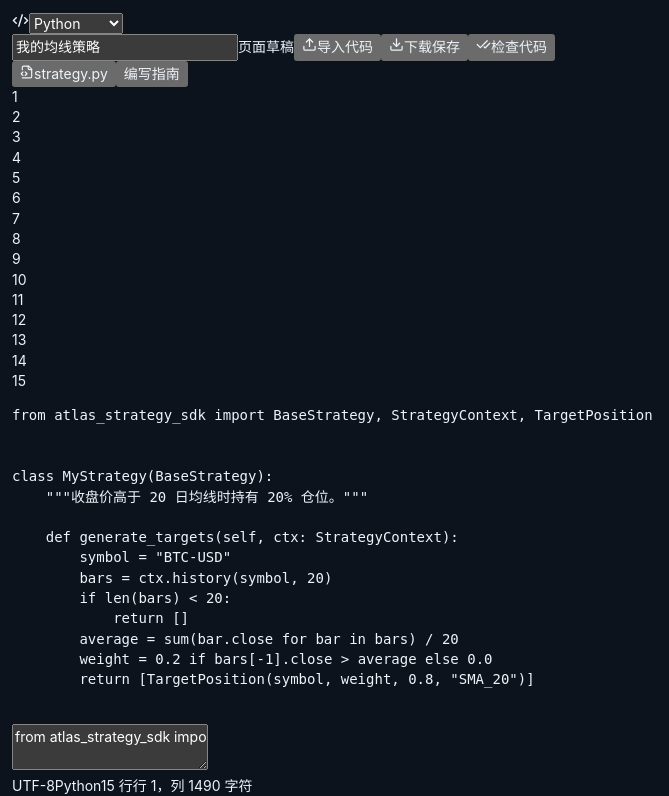
Test: code strategy editor › does not display stale syntax results on newly edited code
Click the button "检查代码". click: {"x": 512, "y": 47}
box: [468, 34, 555, 61]
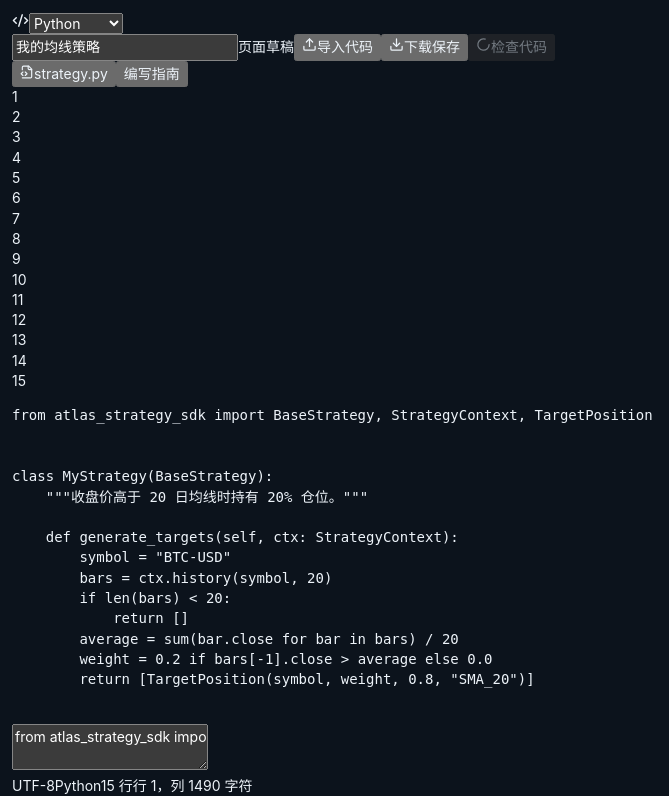
Replace the text in the text box named "Python 策略代码" with "def broken(". click: {"x": 110, "y": 747}
box: [12, 724, 208, 770]
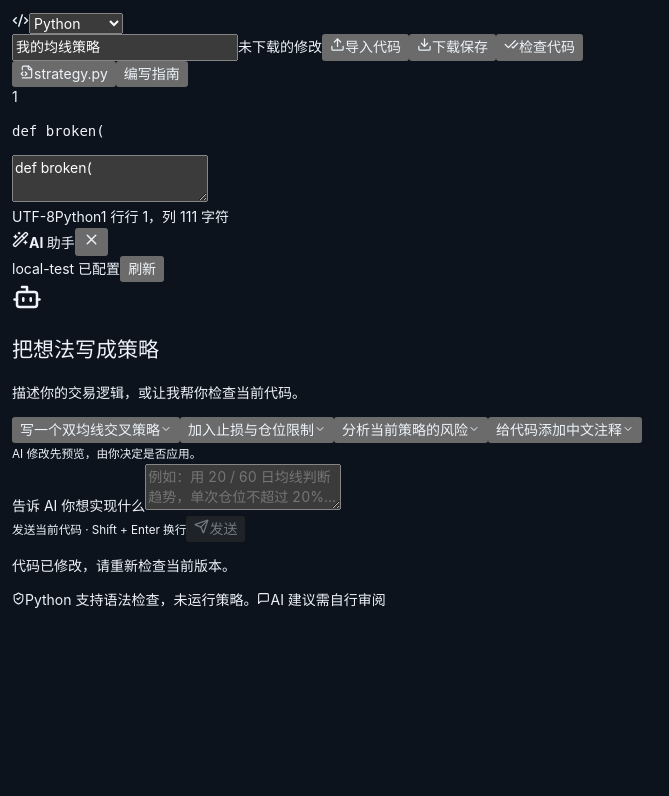
Expected: the text "代码已修改，请重新检查当前版本。" is shown, [12, 557, 236, 574]
